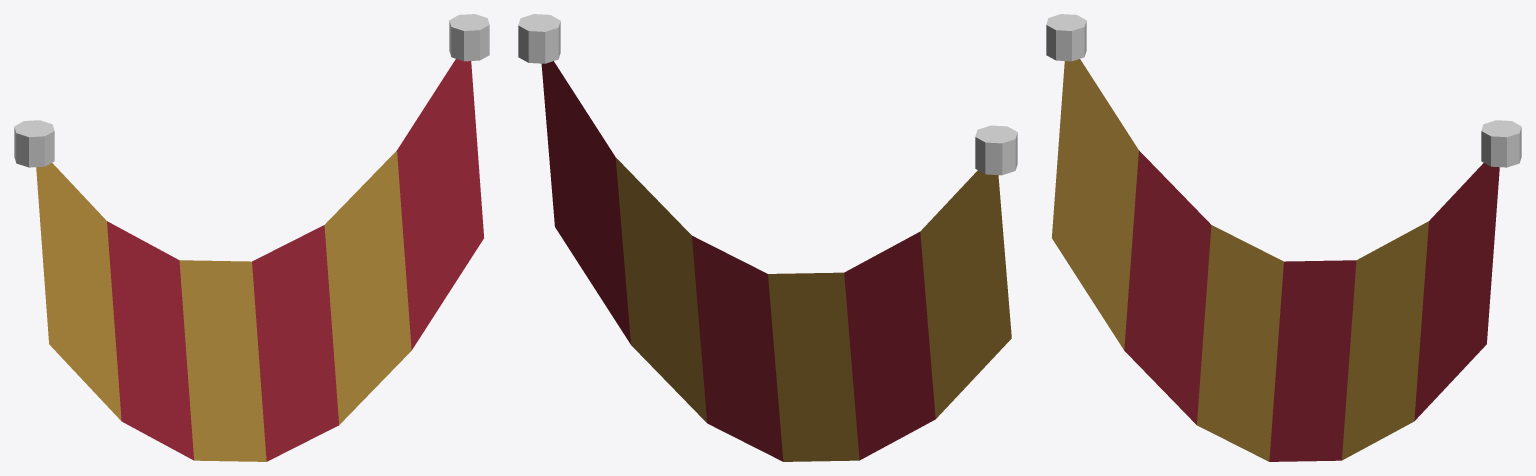
The model's file is drape-swag.glb.
The picture shows the model from 3 angles, left to right: view 1: azimuth 30°, elevation 25°; view 2: azimuth 150°, elevation 25°; view 3: azimuth 330°, elevation 25°; orthographic projection. The views are drawn at different scales.
Parts seen in each view (by area): view 1: drape-swag; view 2: drape-swag; view 3: drape-swag.
Part boxes in pixels (x1,y1,x2,y2): drape-swag: (14, 14, 489, 461); drape-swag: (518, 14, 1017, 461); drape-swag: (1046, 14, 1521, 461).
Bounding box in the file's own units: 1.49 × 1.14 × 0.138.
